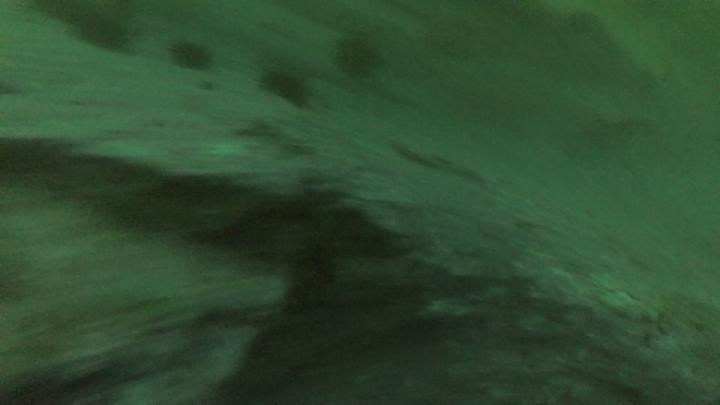echinus: (259, 65, 321, 118), (330, 34, 390, 85), (74, 13, 133, 55), (167, 38, 221, 76)
